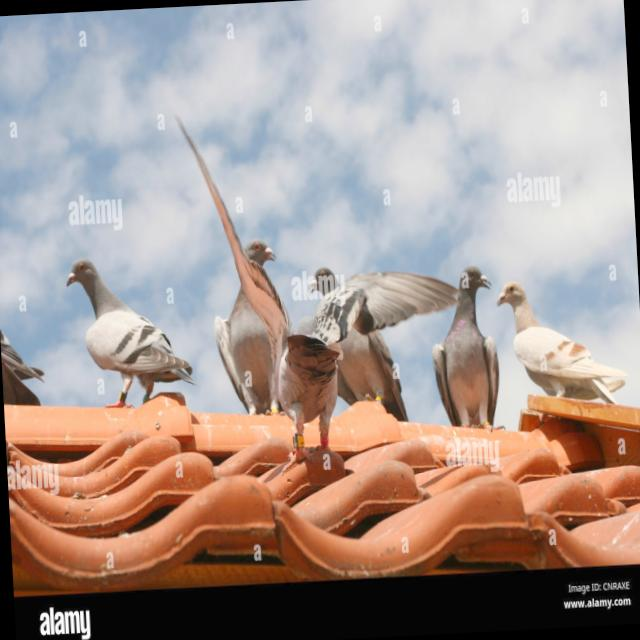bird: (173, 101, 470, 473), (64, 251, 198, 413), (494, 274, 630, 412), (426, 264, 504, 434)
